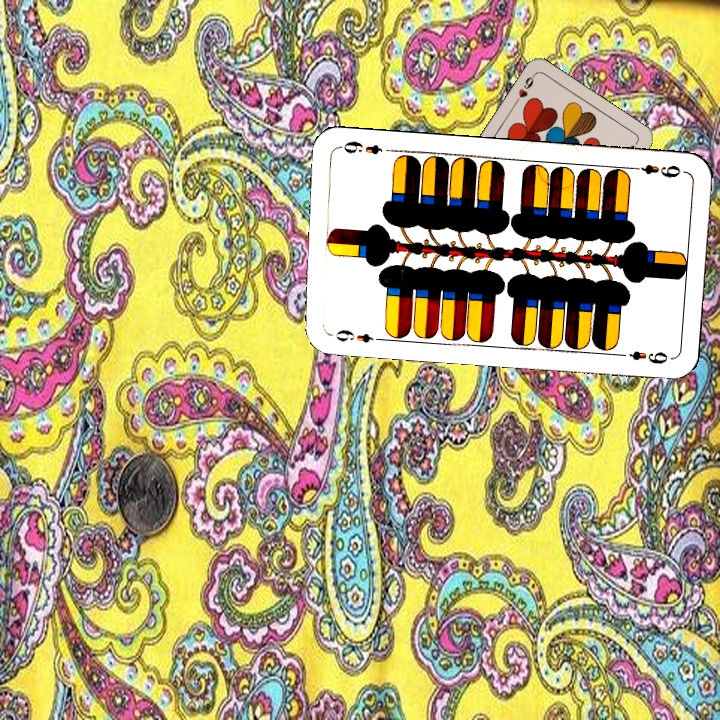E9: (324, 326, 383, 346), (627, 160, 683, 180)
H9: (511, 70, 538, 106)
